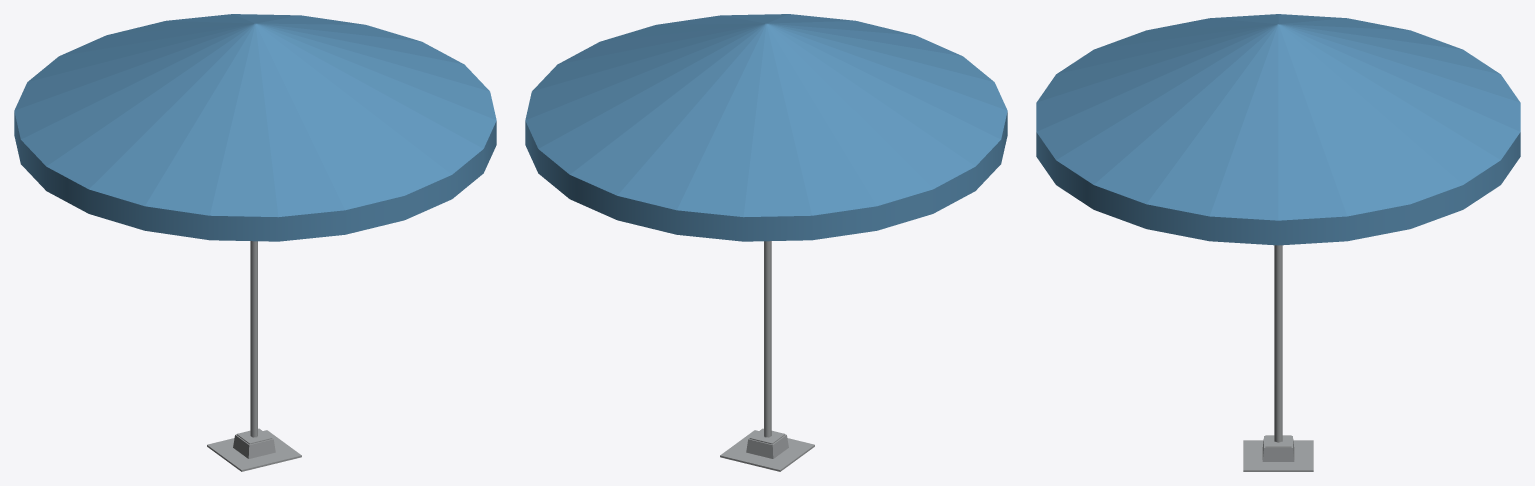
Rendered from SM_sunshade_circular_01.fbx.
The picture shows the model from 3 angles, left to right: view 1: azimuth 30°, elevation 25°; view 2: azimuth 150°, elevation 25°; view 3: azimuth 270°, elevation 25°; orthographic projection.
Visible parts, largest first — view 1: Box114; view 2: Box114; view 3: Box114.
Boxes of the visible parts, x1,y1,x2,y2 form: Box114: (14, 14, 496, 471); Box114: (525, 14, 1007, 471); Box114: (1036, 14, 1520, 471).
Size of the model in its own units: 124 by 123 by 121.
